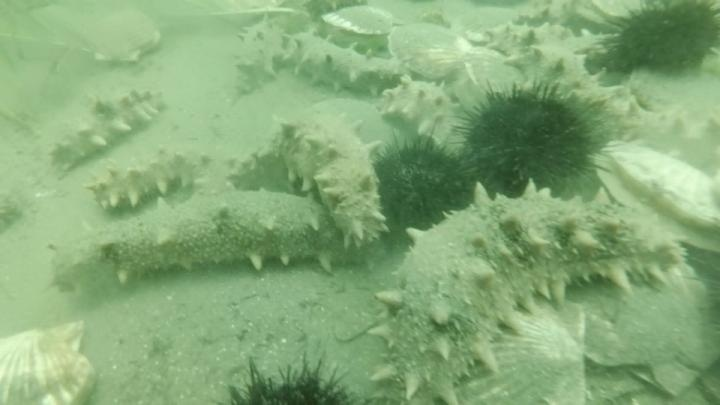echinus: (453, 78, 609, 206), (368, 131, 480, 243), (602, 2, 720, 81), (222, 350, 362, 404)
holothurian: (360, 176, 686, 402), (51, 172, 383, 293), (226, 107, 393, 254), (483, 17, 630, 129), (47, 83, 167, 175), (281, 30, 406, 102), (84, 146, 207, 219), (376, 76, 468, 154), (229, 13, 290, 100), (508, 1, 611, 37)
scallop: (575, 265, 720, 400), (590, 139, 720, 257), (479, 295, 593, 405), (1, 317, 101, 405), (620, 65, 720, 137), (62, 5, 165, 70), (385, 20, 469, 85), (314, 3, 402, 57), (560, 1, 649, 38), (453, 3, 525, 46)
